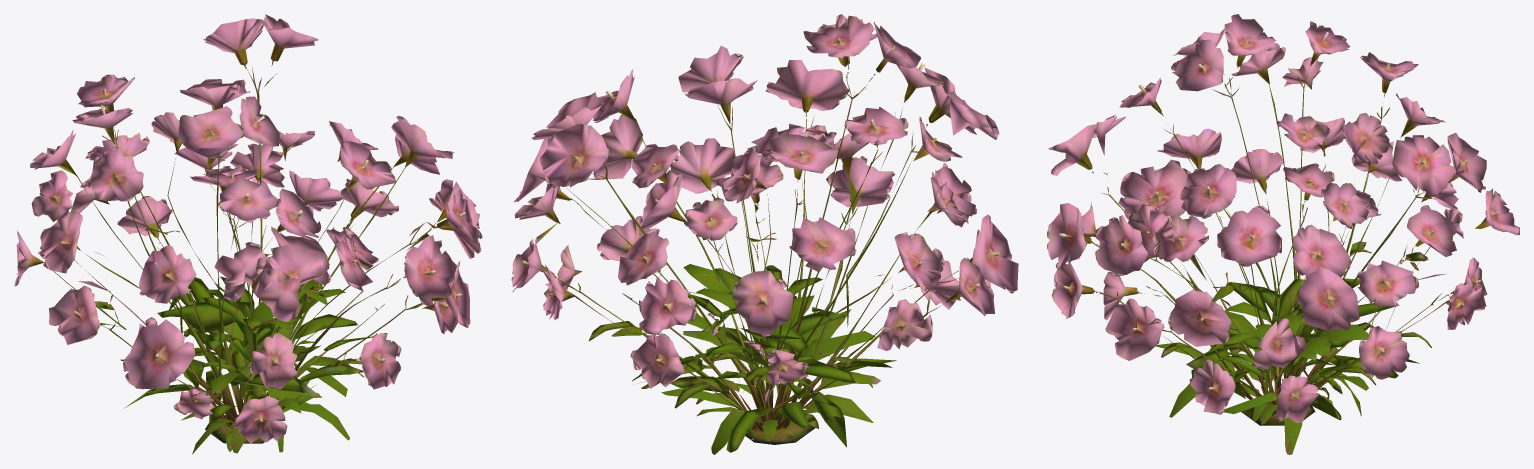
File: LiuYingXianHua.glb
3 views of the same model, side by side, from view 1: azimuth 30°, elevation 25°; view 2: azimuth 150°, elevation 25°; view 3: azimuth 270°, elevation 25° (orthographic). The views are drawn at different scales.
Parts seen in each view (by area): view 1: tripo_node_74e6e8f5-481c-4852-a8ea-db3c33aec624; view 2: tripo_node_74e6e8f5-481c-4852-a8ea-db3c33aec624; view 3: tripo_node_74e6e8f5-481c-4852-a8ea-db3c33aec624.
Part boxes in pixels (x1=…): tripo_node_74e6e8f5-481c-4852-a8ea-db3c33aec624: x1=14, y1=14, x2=482, y2=454; tripo_node_74e6e8f5-481c-4852-a8ea-db3c33aec624: x1=511, y1=14, x2=1018, y2=454; tripo_node_74e6e8f5-481c-4852-a8ea-db3c33aec624: x1=1047, y1=14, x2=1519, y2=454.
Bounding box in the file's own units: 0.9902 × 0.873 × 0.998.
Materials: 1 (1 with a texture image).
